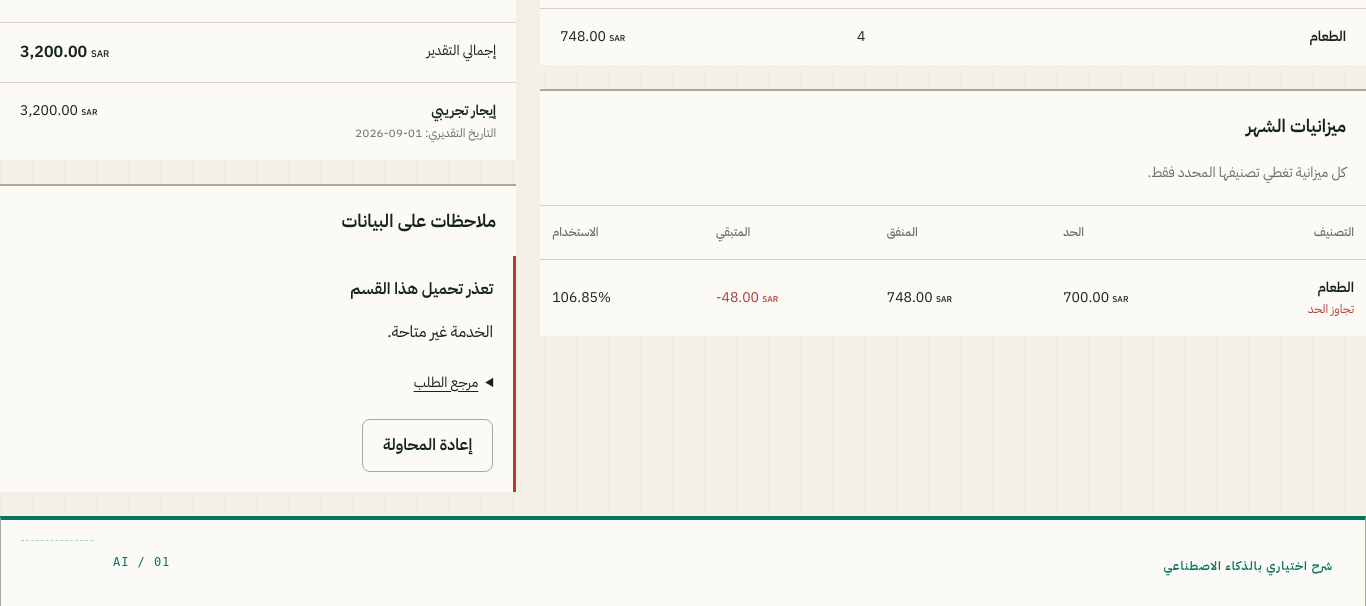
Scenario: Overview › shows localized API errors and request IDs without exposing error stacks
The width and height of the screenshot is (1366, 606).
(page scrolled)
Expected: the message shows "الخدمة غير متاحة.", x1=387 y1=320 x2=493 y2=344
Click the heading "مرجع الطلب" at (446, 382), box x1=414 y1=372 x2=478 y2=392
(page scrolled)
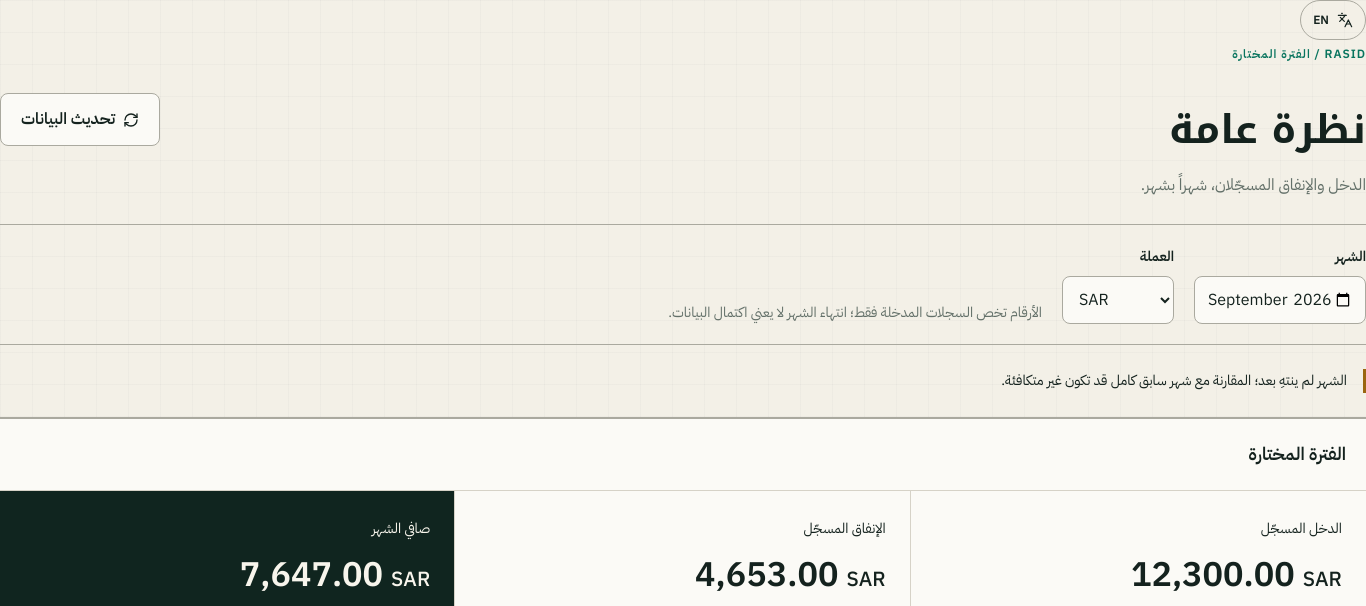
Click the button with aria-label "عرض الواجهة بالإنجليزية" at (1333, 20), box x1=1300 y1=0 x2=1365 y2=40
(page scrolled)
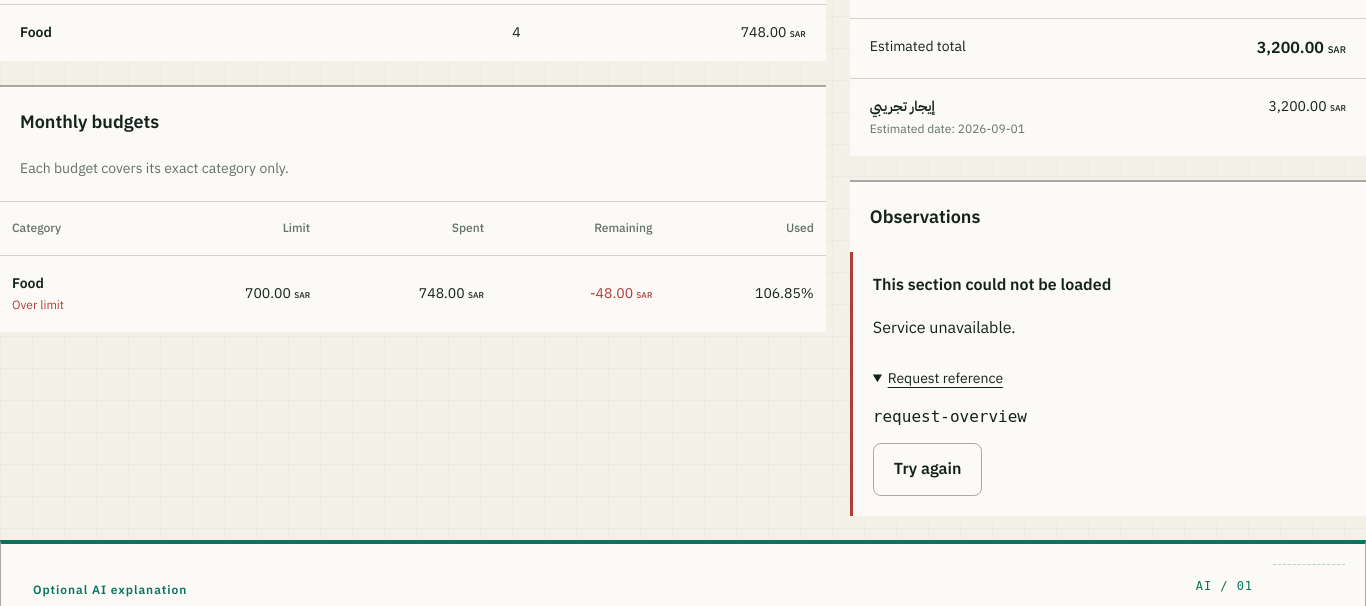
Expected: the message shows "Service unavailable.", x1=873 y1=316 x2=1016 y2=340
